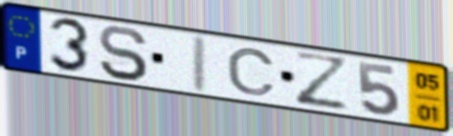3: (44, 17, 97, 77)
5: (356, 59, 403, 117)
C: (225, 46, 279, 97)
I: (189, 33, 210, 96)
S: (97, 24, 151, 83)
Z: (291, 49, 352, 113)
